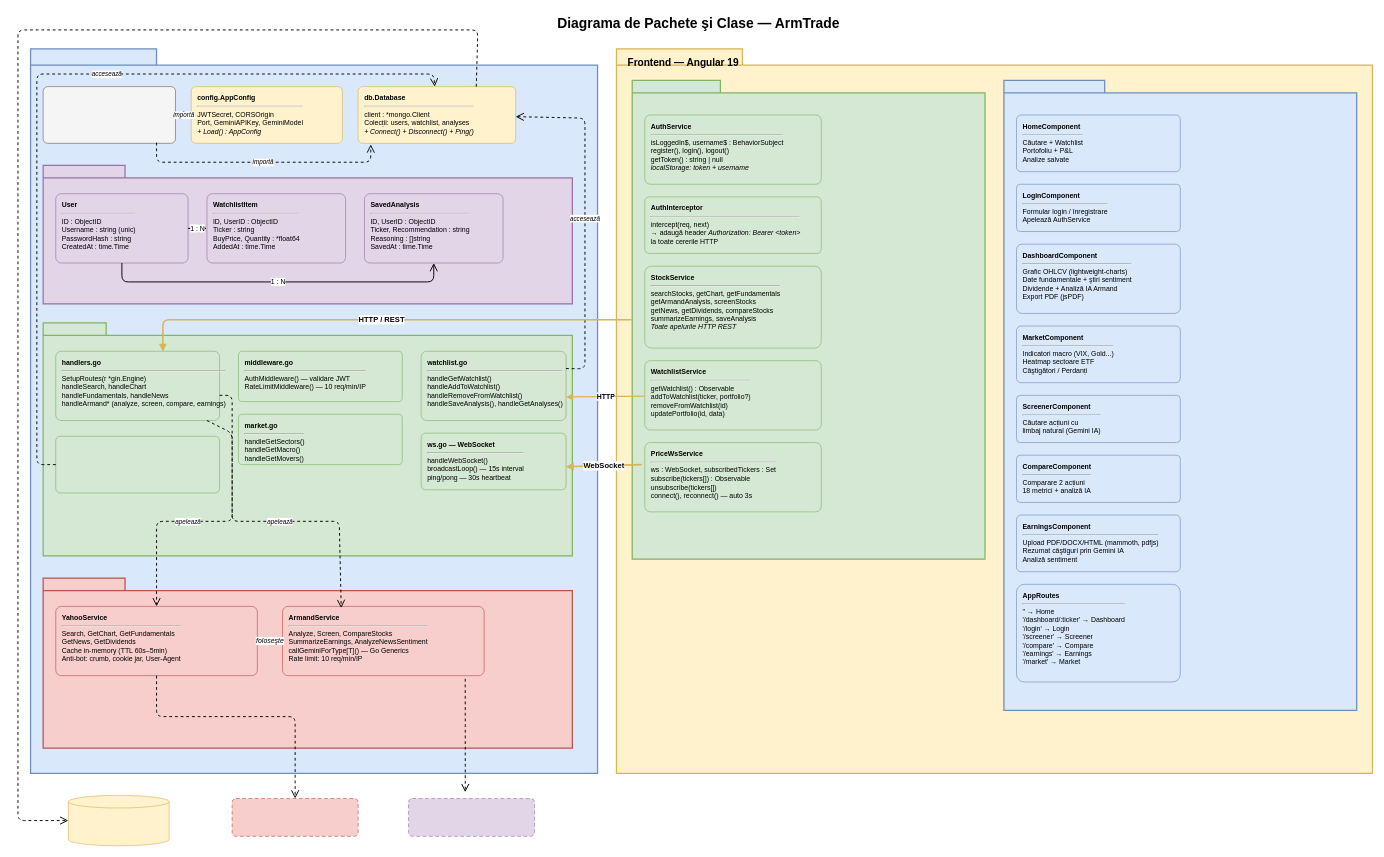
Image size: 1384x857. Some labels were removed from this diagram. The box of each missing label's shape, as (x1, y1, x2, y2) in pixels:
auth.go handleRegister() handleLogin() generateJWT(), bcrypt hash: (55, 436, 220, 493)
Backend — Go / Gin: (30, 48, 598, 774)
Componente Pagini: (1003, 79, 1357, 711)
Google Gemini API (Extern): (408, 798, 535, 836)
main Inițializare server Gin CORS, graceful shutdown Port: 8080 (env PORT): (43, 86, 175, 143)
MongoDB 7 (Bază de date): (68, 795, 169, 846)
Pachet: api: (42, 322, 573, 556)
Pachet: models: (42, 164, 573, 304)
Pachet: services: (42, 577, 573, 748)
Servicii Angular: (631, 79, 985, 559)
Yahoo Finance API (Extern): (232, 798, 358, 836)
